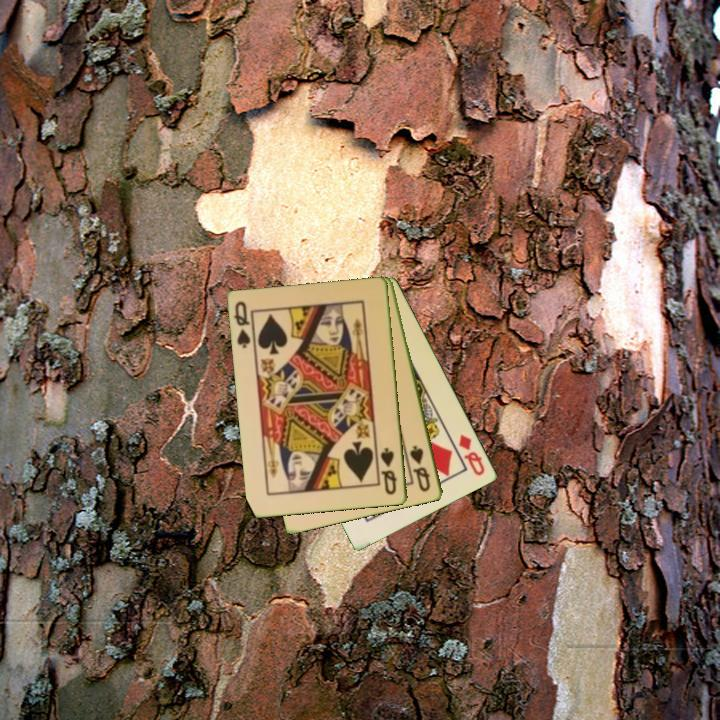Qd: (455, 430, 488, 479)
Qs: (407, 442, 433, 495), (230, 298, 254, 351), (377, 444, 400, 498)
